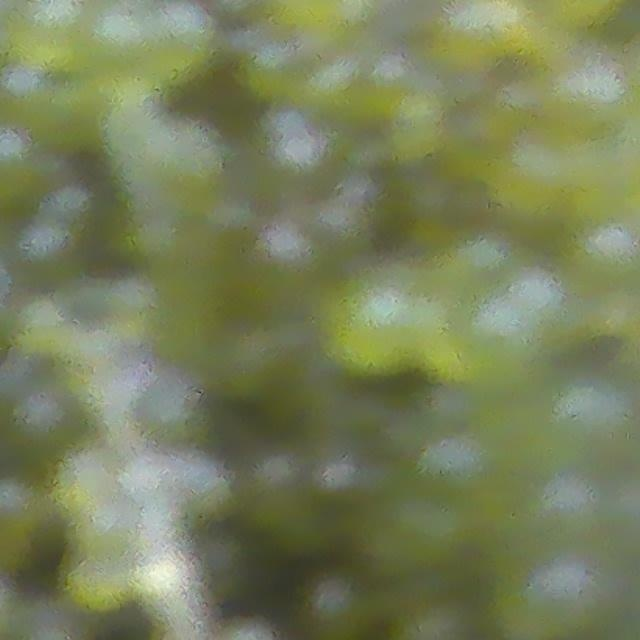SeaGrape: (81, 1, 154, 68), (266, 113, 324, 173), (18, 0, 83, 42)
